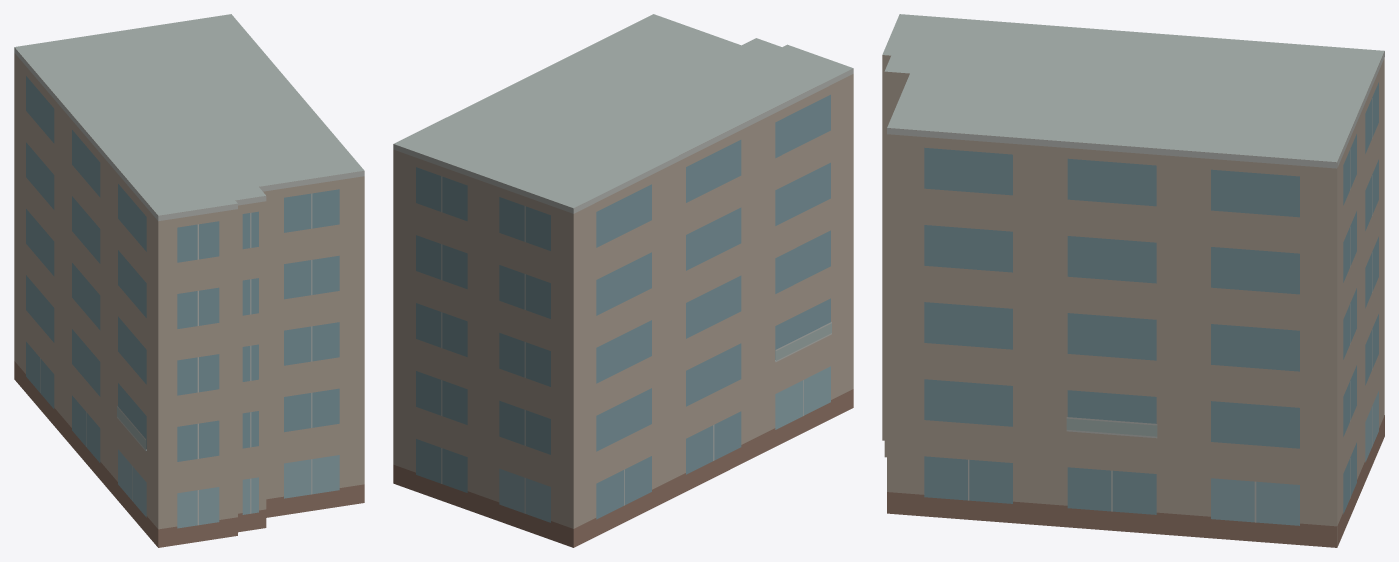
Rendered from survey-upis-32710663.glb.
3 renders of one model, left to right at view 1: azimuth 30°, elevation 25°; view 2: azimuth 150°, elevation 25°; view 3: azimuth 270°, elevation 25°, orthographic. The views are drawn at different scales.
Parts seen in each view (by area): view 1: survey-upis-32710663.tmp; view 2: survey-upis-32710663.tmp; view 3: survey-upis-32710663.tmp.
Boxes of the visible parts, left/top/right/bottom form: survey-upis-32710663.tmp: left=14, top=14, right=364, bottom=547; survey-upis-32710663.tmp: left=393, top=14, right=853, bottom=547; survey-upis-32710663.tmp: left=882, top=14, right=1384, bottom=547.
Size of the model in its own units: 12.21 by 14.8 by 17.48.
